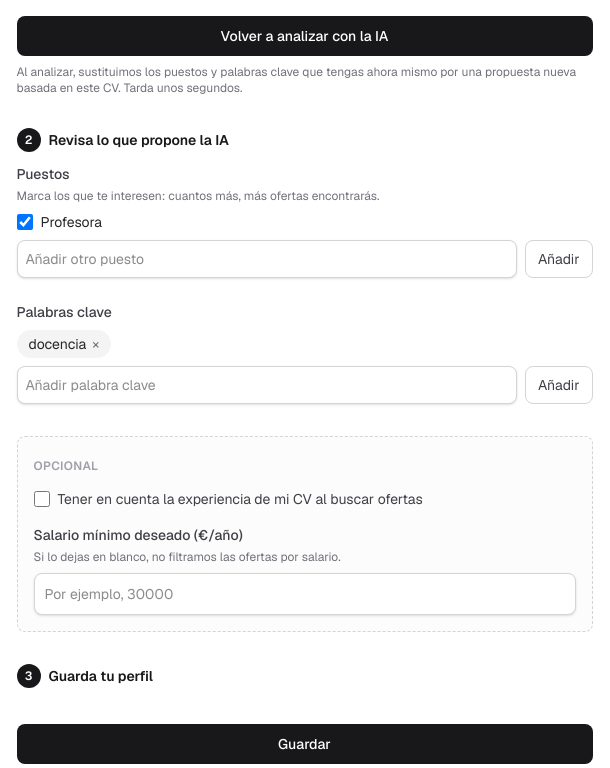
Test case: FormularioPerfil — B2: propuesta automática de puestos y palabras clave (T86/T88) › permite añadir una palabra clave propia que la IA no haya sugerido
(page scrolled)
Type "tutoría" into the field with placeholder "Añadir palabra clave".
click(267, 384); type("tutoría")  # box 16,366 -> 517,404
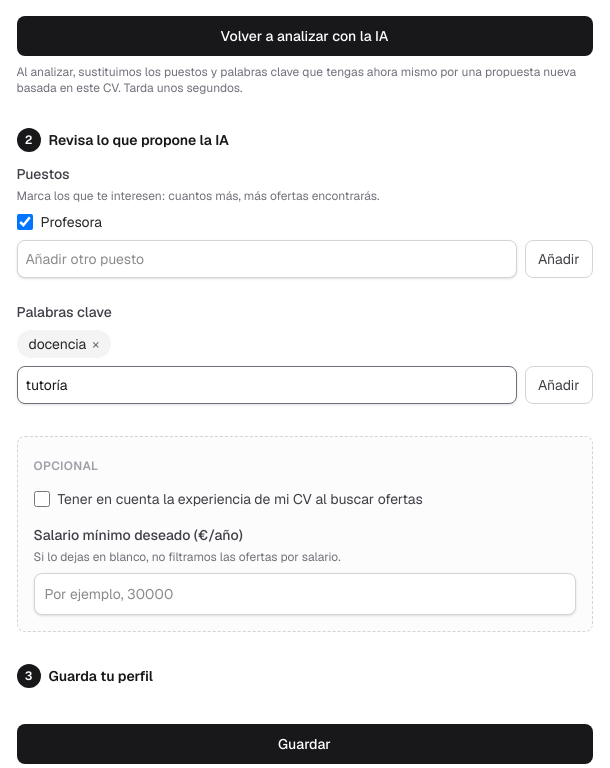
Click the button with aria-label "Añadir palabra clave".
click(559, 384)  # box 525,366 -> 592,404
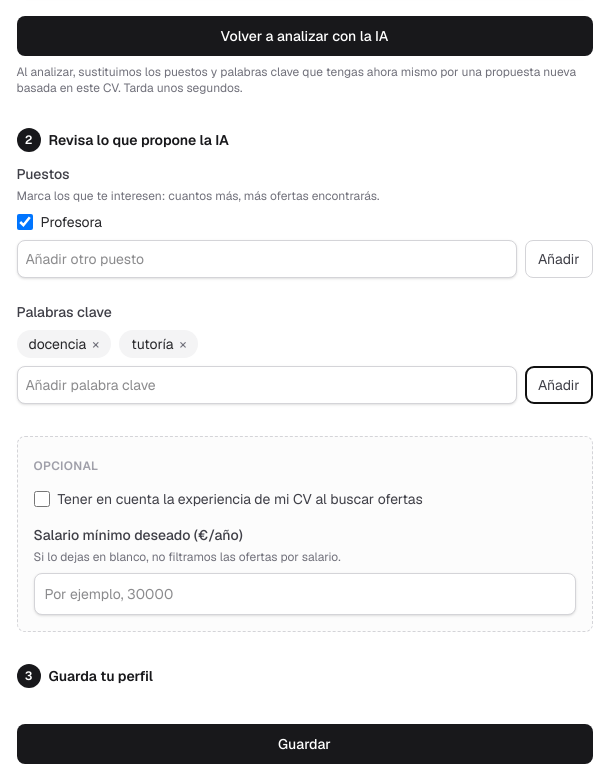
Expected: the text "tutoría" is shown, 131,334 -> 173,352
